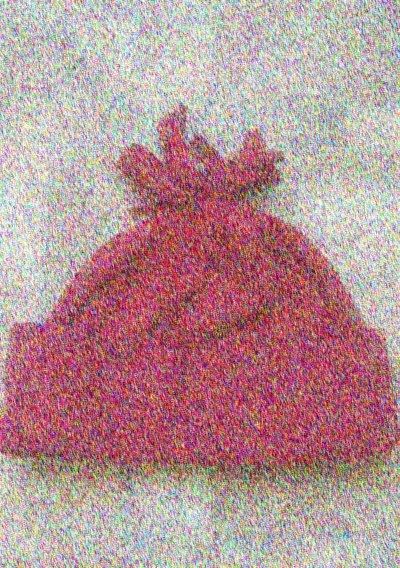Hat: (0, 124, 395, 471)
